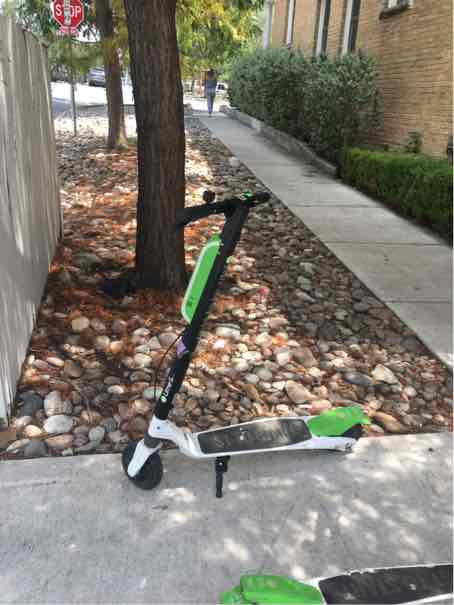scooter: (124, 173, 378, 503)
